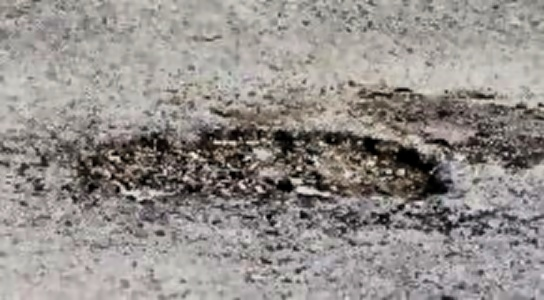pothole: (74, 121, 451, 203)
